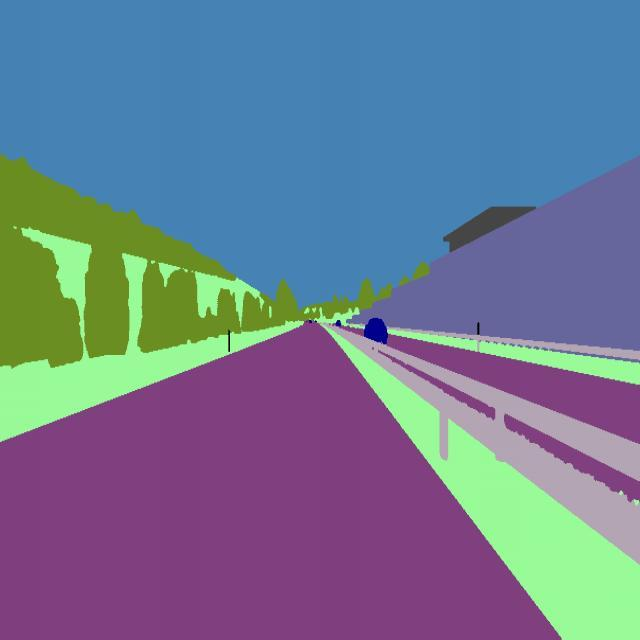safe: (362, 314, 390, 348)
